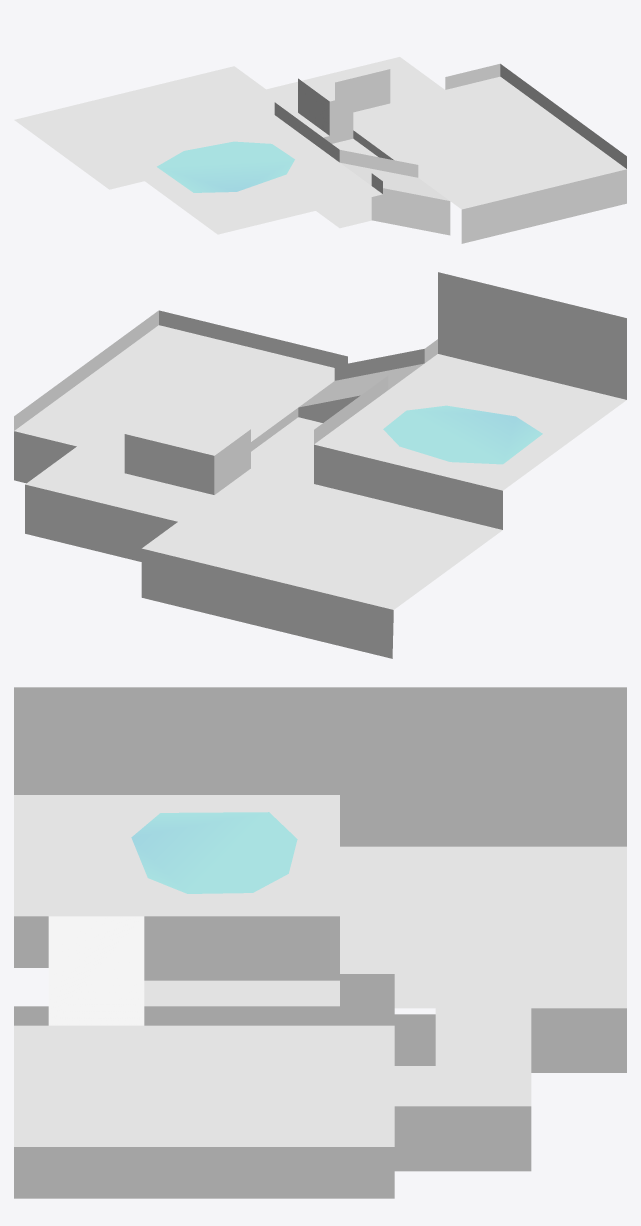
Rendered from testarea2.glb.
3 views of the same model, one above another, from view 1: azimuth 30°, elevation 25°; view 2: azimuth 150°, elevation 25°; view 3: azimuth 270°, elevation 25° (orthographic). The views are drawn at different scales.
Visible parts, largest first — view 1: Plane; view 2: Plane; view 3: Plane.
Boxes of the visible parts, box(x1,y1,x2,y2) form: Plane: box(14, 57, 626, 243); Plane: box(14, 272, 626, 658); Plane: box(14, 687, 626, 1198).
Size of the model in its own units: 59.01 by 20.52 by 50.91.
